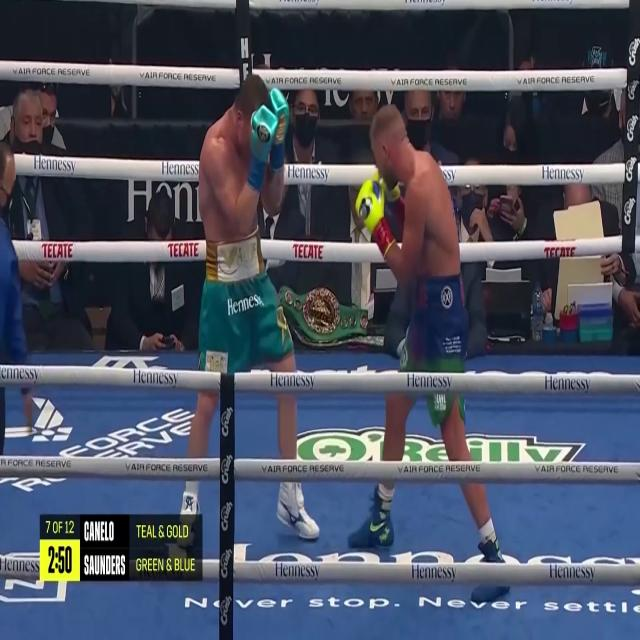boxer_1: (370, 106, 460, 274)
boxer_2: (199, 75, 269, 238)
gloves_1: (355, 168, 405, 254)
gloves_2: (248, 88, 290, 190)
